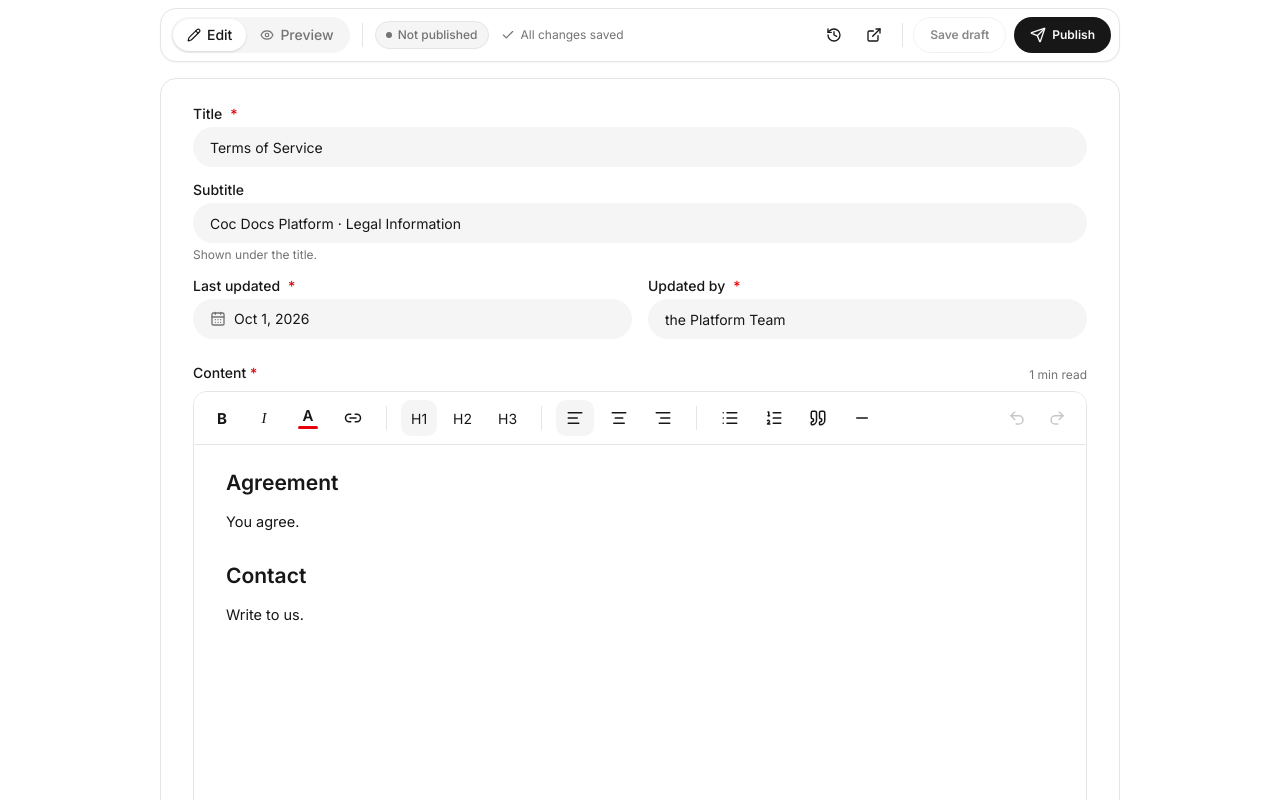
Test case: LegalPageEditor › blocks publishing while an issue remains, and Go to field closes the dialog
Clear the field showing "Terms of Service" at (640, 147), box [193, 127, 1087, 167]
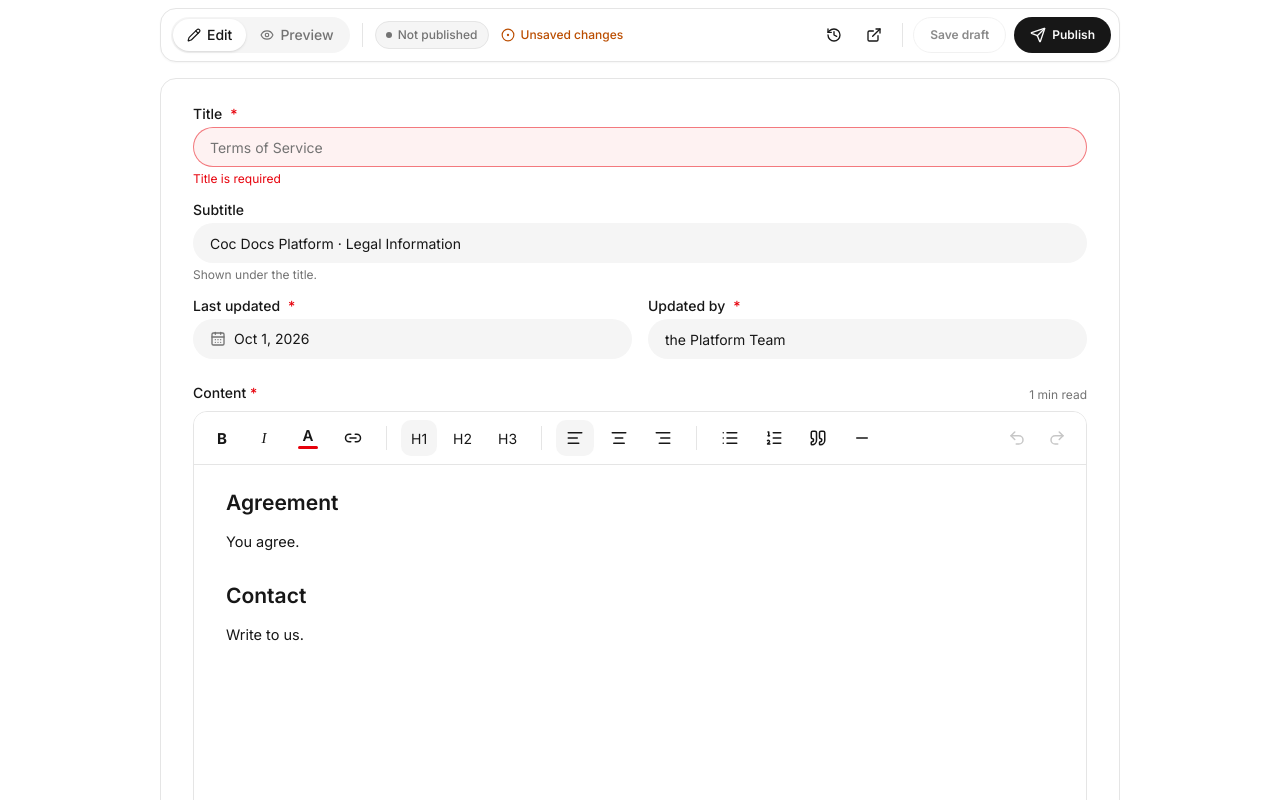
Click the button "Publish" at (1063, 35), box [1014, 17, 1111, 53]
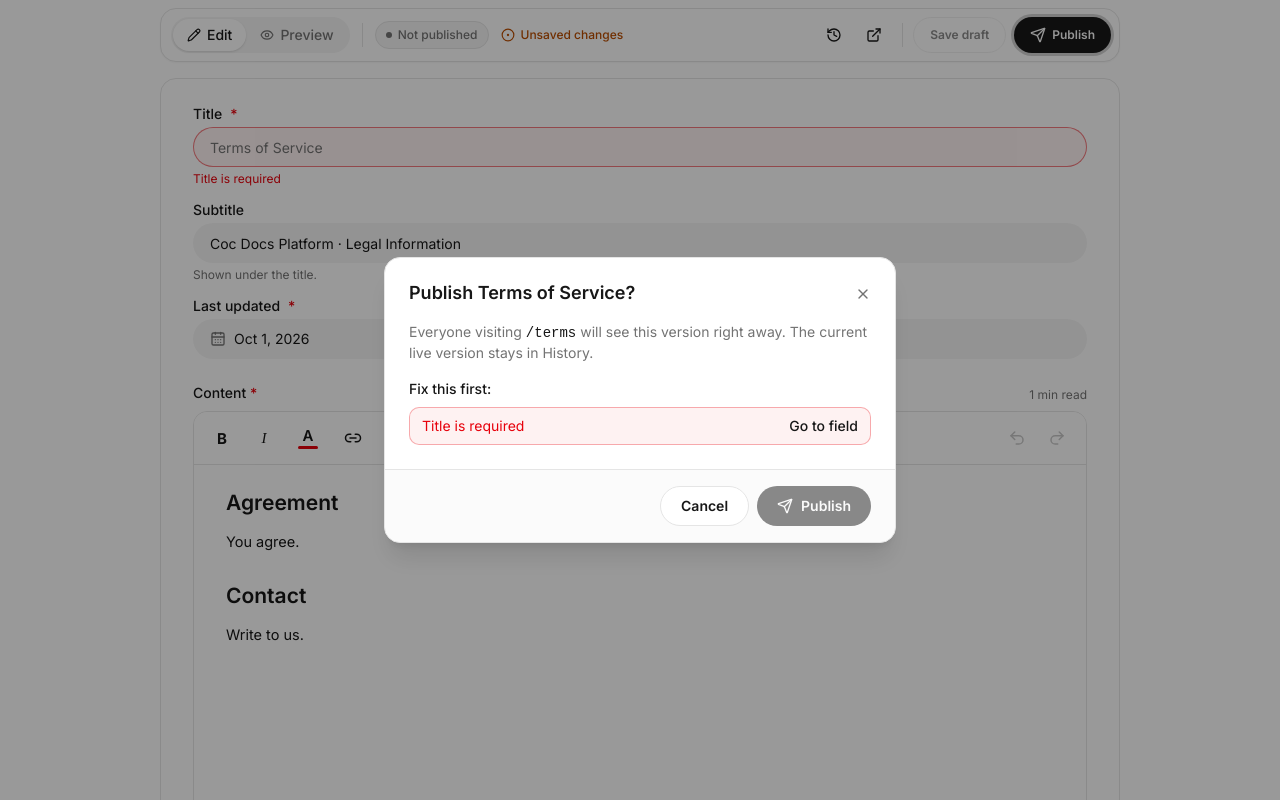
Check: the button "Publish" is disabled, box [757, 486, 871, 526]
Check: the dialog "Publish Terms of Service" shows "Title is required", box [422, 417, 524, 434]
Click the button "Go to field" at (824, 426), box [789, 416, 858, 436]
(page scrolled)
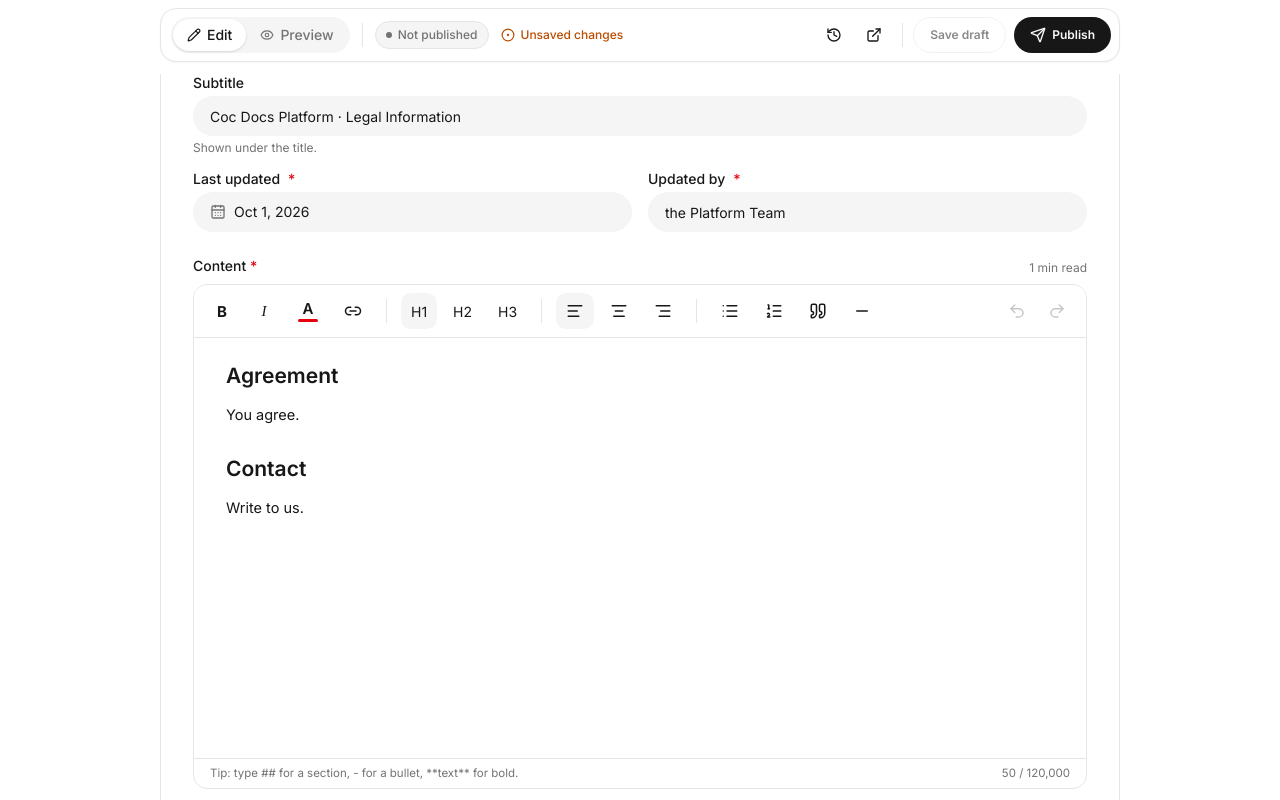
Check: the heading "Publish Terms of Service" is gone
